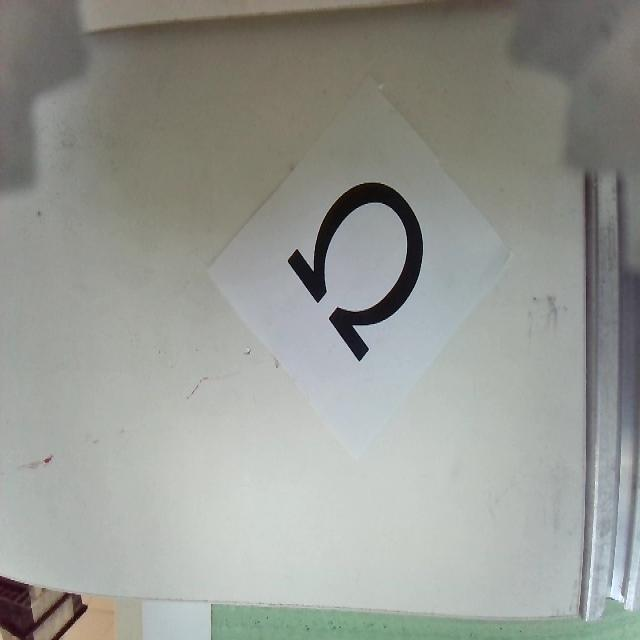OM: (285, 178, 425, 360)
